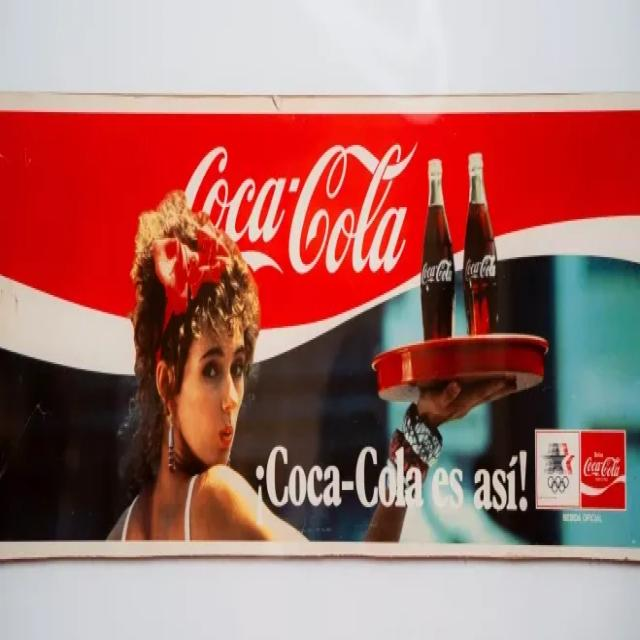coca cola: (175, 138, 429, 287), (262, 432, 426, 529), (573, 432, 627, 516), (469, 252, 499, 293)
